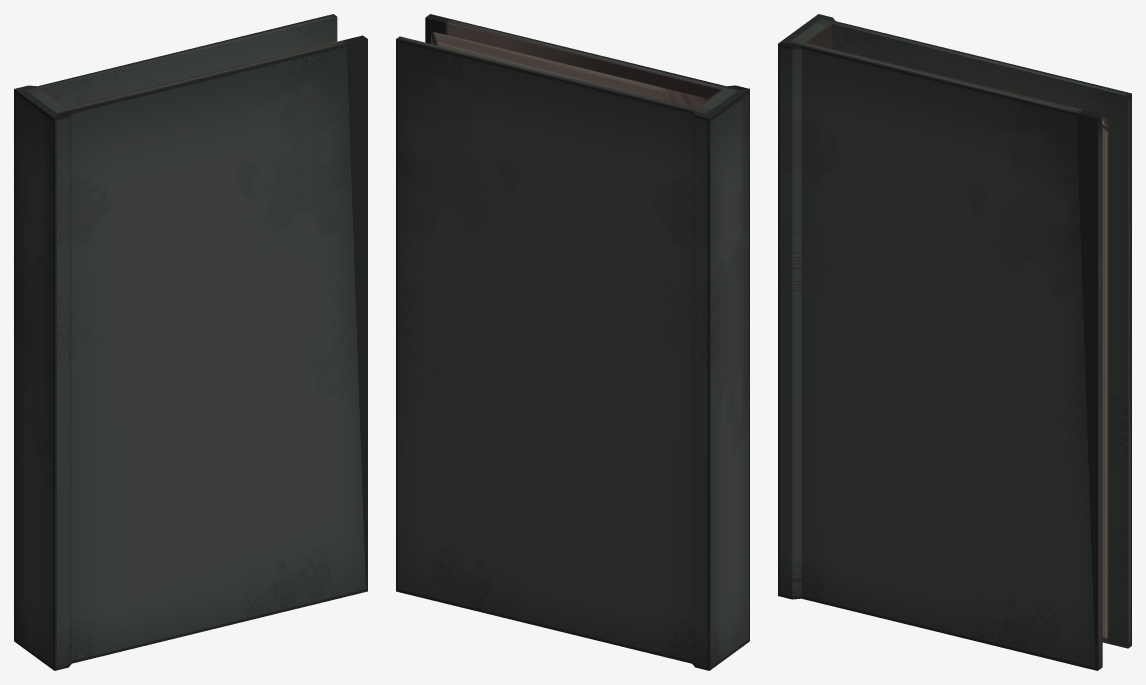
File: Book.fbx
3 renders of one model, left to right at view 1: azimuth 30°, elevation 25°; view 2: azimuth 150°, elevation 25°; view 3: azimuth 330°, elevation 25°, orthographic.
Parts seen in each view (by area): view 1: BookMesh; view 2: BookMesh; view 3: BookMesh.
Boxes of the visible parts, <box> form: BookMesh: <box>14,14,367,670</box>; BookMesh: <box>396,14,749,670</box>; BookMesh: <box>778,14,1131,670</box>.
Bounding box in the file's own units: 34.04 × 56.77 × 7.54.
1 material, 1 textured.
